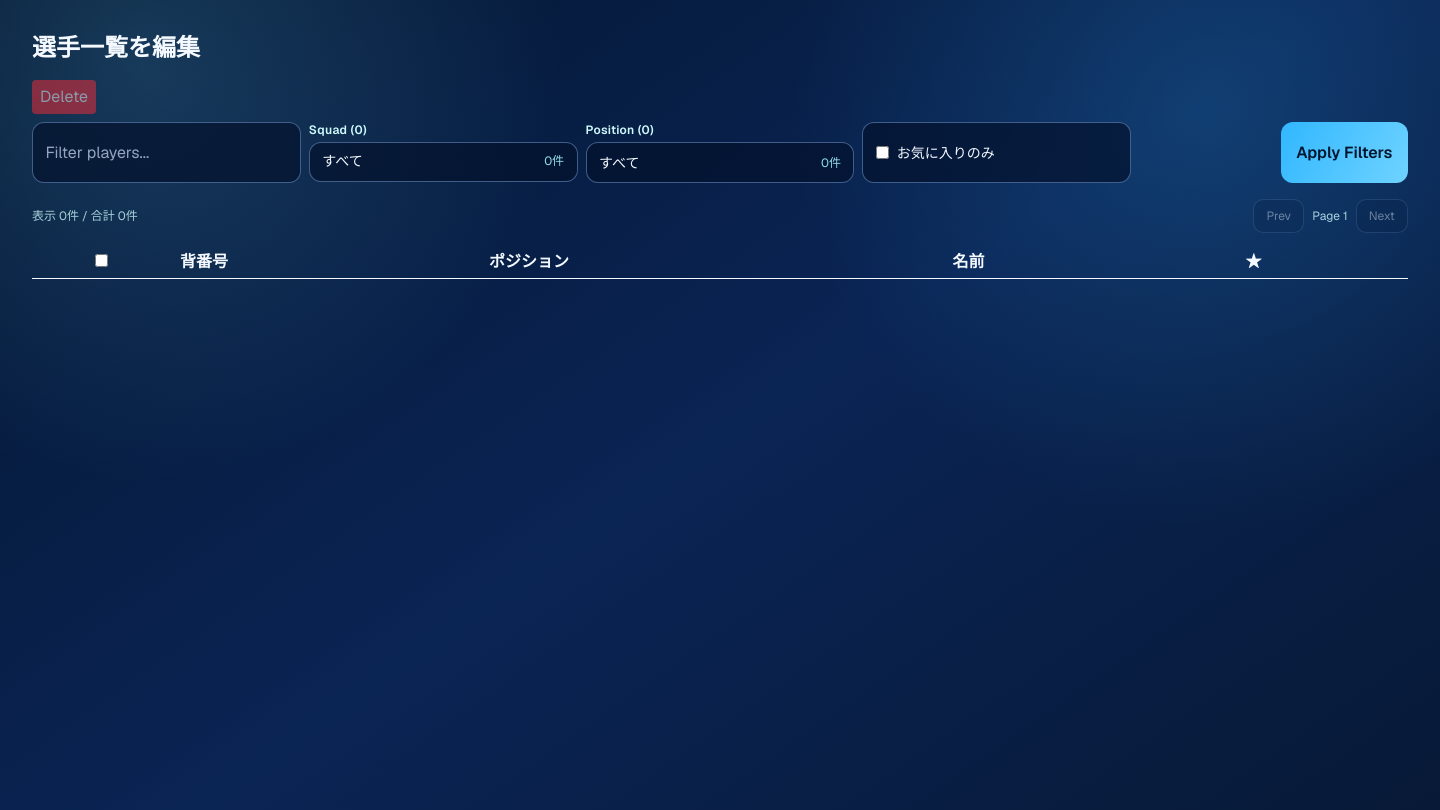
Scenario: Squad filter UI › keeps squad and position filters available after selecting a squad
This screenshot has width=1440, height=810.
Check: the button "Apply Filters" is shown, box [1281, 122, 1408, 183]
Check: the text "Squad (0)" is shown, box [309, 122, 367, 138]
Click the button with aria-label "Squad (0) filter" at coordinates (342, 160), box [309, 142, 578, 182]
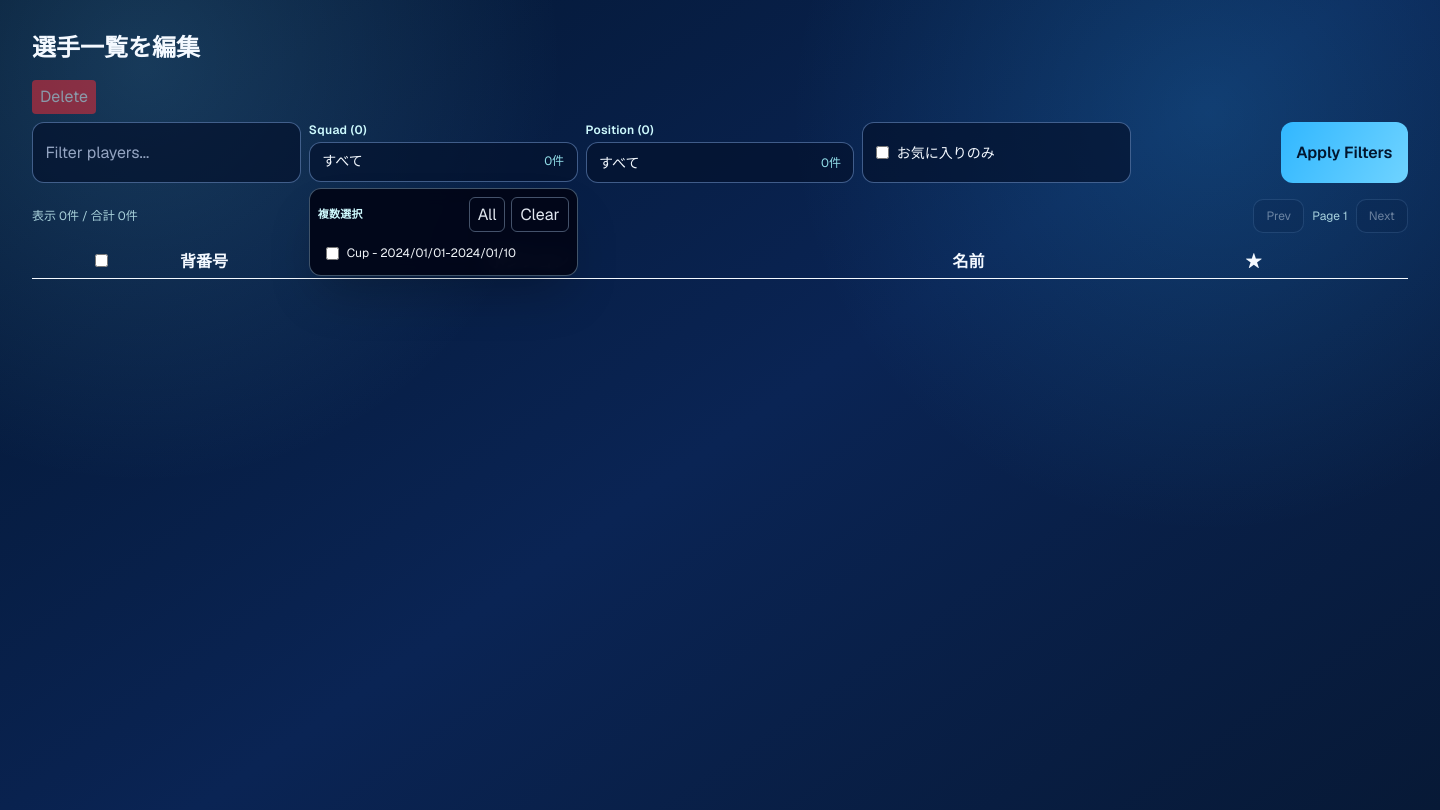
Click the checkbox labelled "Cup - 2024/01/01-2024/01/10" at coordinates (332, 254), box [326, 247, 339, 260]
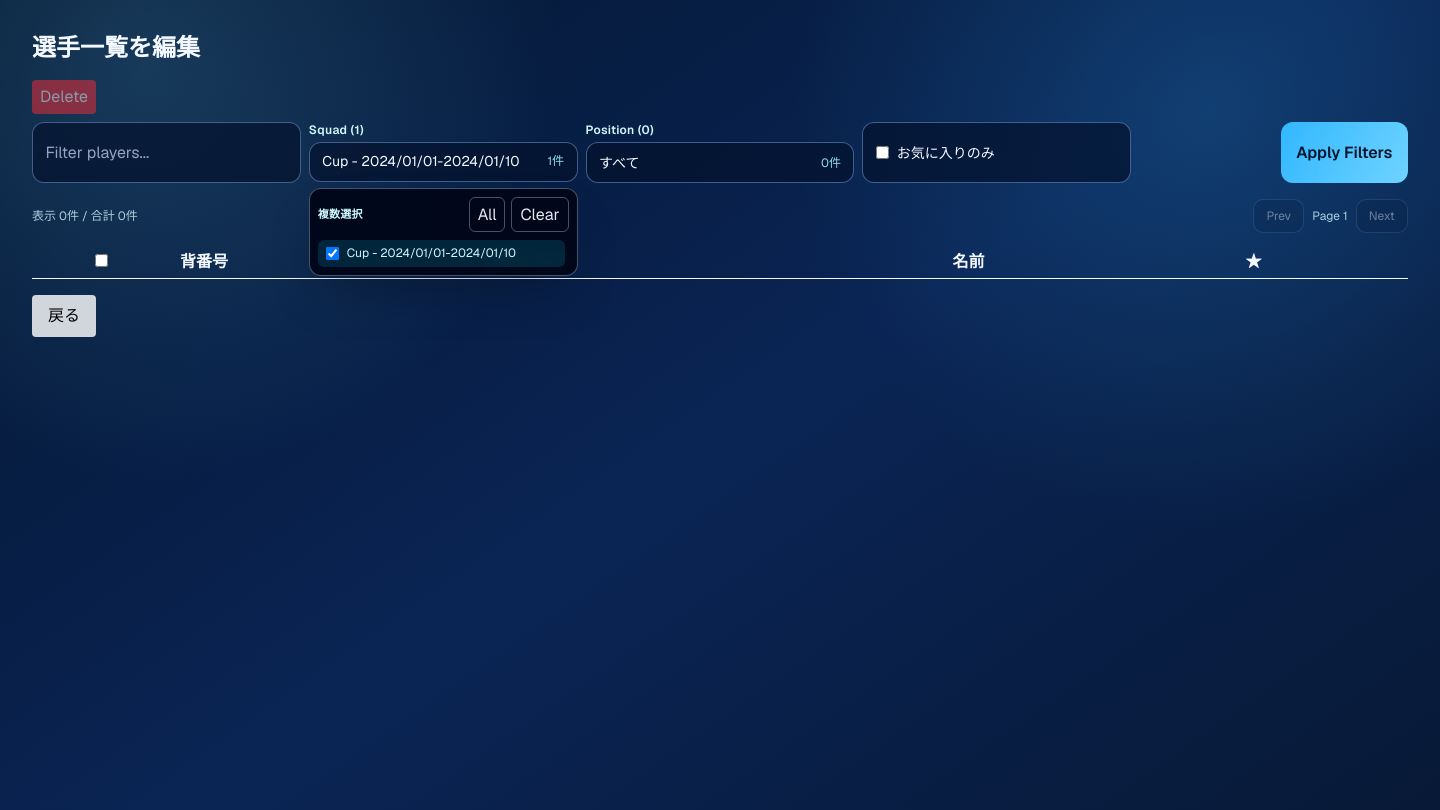
Check: the text "Position (0)" is shown, box [586, 122, 654, 138]
Check: the text "Squad (1)" is shown, box [309, 122, 364, 138]
